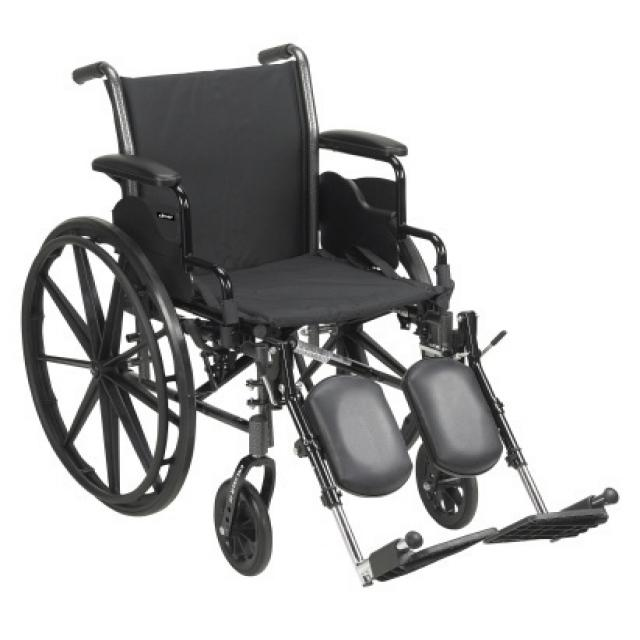wheelchair: (10, 36, 640, 608)
